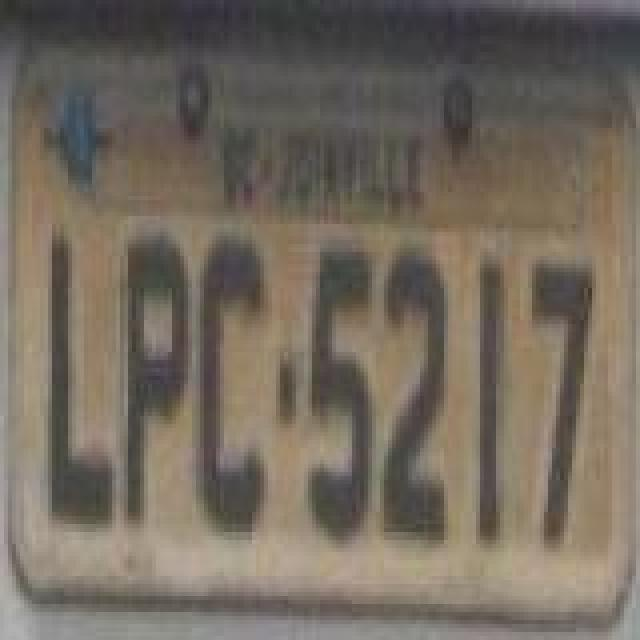1: (476, 252, 500, 548)
2: (380, 248, 452, 552)
5: (304, 244, 376, 548)
7: (528, 260, 592, 556)
C: (198, 230, 266, 546)
L: (46, 232, 114, 536)
P: (126, 232, 194, 536)
